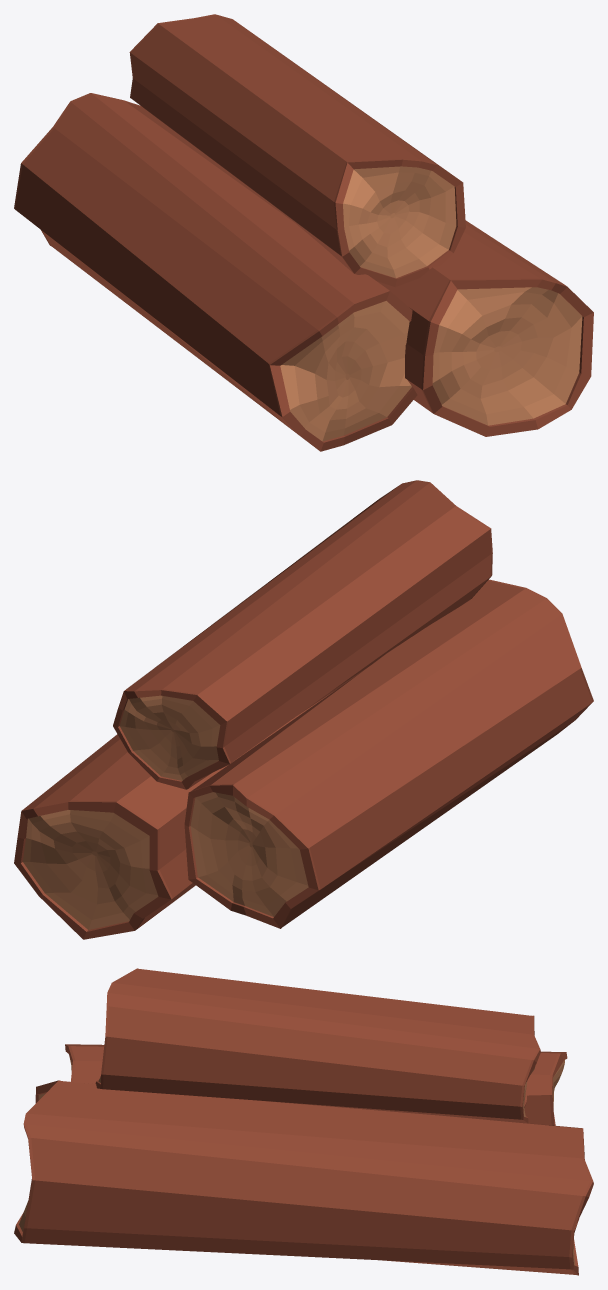
File: wood.fbx
3 renders of one model, top to bottom at view 1: azimuth 30°, elevation 25°; view 2: azimuth 150°, elevation 25°; view 3: azimuth 270°, elevation 25°, orthographic. The views are drawn at different scales.
Visible parts, largest first — view 1: Cylinder.005, Cylinder.001, Cylinder.002; view 2: Cylinder.005, Cylinder.001, Cylinder.002; view 3: Cylinder.002, Cylinder.001, Cylinder.005.
Part boxes in pixels (x1,y1,x2,y2): Cylinder.005: (14, 93, 417, 451); Cylinder.001: (129, 14, 465, 287); Cylinder.002: (377, 220, 593, 436); Cylinder.005: (184, 579, 593, 928); Cylinder.001: (113, 480, 492, 789); Cylinder.002: (14, 692, 332, 939); Cylinder.002: (14, 1080, 593, 1275); Cylinder.001: (95, 968, 540, 1123); Cylinder.005: (65, 1044, 567, 1125).
Bounding box in the file's own units: 239 × 219 × 450.
